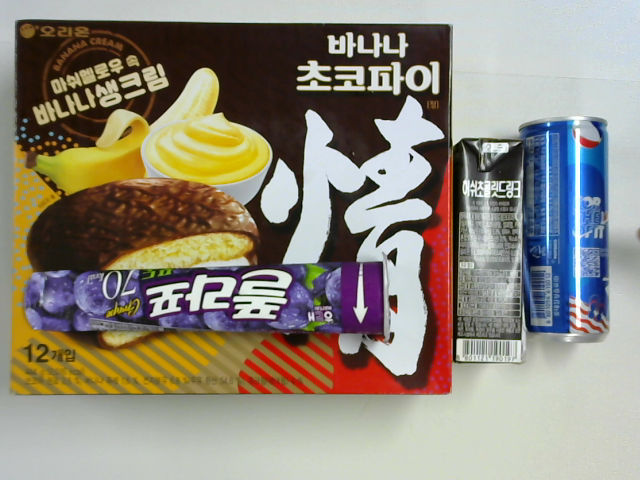Choco_Pie_Banana: (12, 20, 457, 395)
Hush_Choco_Drink: (452, 137, 530, 366)
Pepsi_Cola_Can_250ml: (516, 110, 618, 344)
